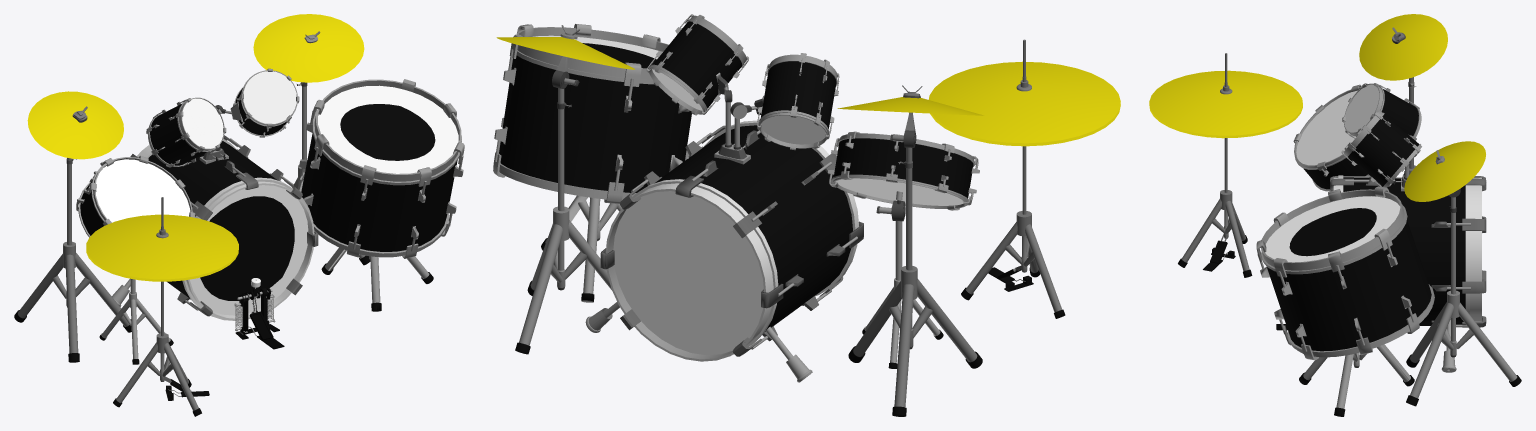
Rendered from drum.fbx.
3 views of the same model, side by side, from view 1: azimuth 30°, elevation 25°; view 2: azimuth 150°, elevation 25°; view 3: azimuth 270°, elevation 25° (orthographic). The views are drawn at different scales.
Visible parts, largest first — view 1: Cylinder.001, Cylinder.003, Cone, Cylinder.018, Cylinder.004, Cylinder.002, Cylinder.010, Cylinder; view 2: Cylinder.003, Cylinder.001, Cone, Cylinder.004, Cylinder.002, Cylinder.018, Cylinder.010; view 3: Cylinder.001, Cone, Cylinder.003, Cylinder.010, Cylinder.004, Cylinder.018, Cylinder.002.
Boxes of the visible parts, box(x1,y1,x2,y2) form: Cylinder.001: box(298, 79, 464, 311); Cylinder.003: box(112, 135, 318, 320); Cone: box(86, 197, 238, 416); Cylinder.018: box(14, 91, 131, 362); Cylinder.004: box(146, 68, 299, 167); Cylinder.002: box(76, 155, 195, 364); Cylinder.010: box(253, 14, 370, 265); Cylinder: box(234, 278, 284, 349); Cylinder.003: box(585, 120, 863, 382); Cylinder.001: box(493, 24, 691, 302); Cone: box(928, 39, 1120, 318); Cylinder.004: box(646, 14, 839, 164); Cylinder.002: box(828, 131, 979, 368); Cylinder.018: box(837, 85, 983, 416); Cylinder.010: box(496, 25, 634, 354); Cylinder.001: box(1256, 186, 1434, 416); Cone: box(1149, 53, 1302, 277); Cylinder.003: box(1330, 175, 1486, 372); Cylinder.010: box(1404, 141, 1521, 406); Cylinder.004: box(1341, 83, 1421, 191); Cylinder.018: box(1359, 14, 1447, 173); Cylinder.002: box(1293, 84, 1369, 191).
Bounding box in the file's own units: 7844 × 4283 × 6059.
1 material, 1 textured.
